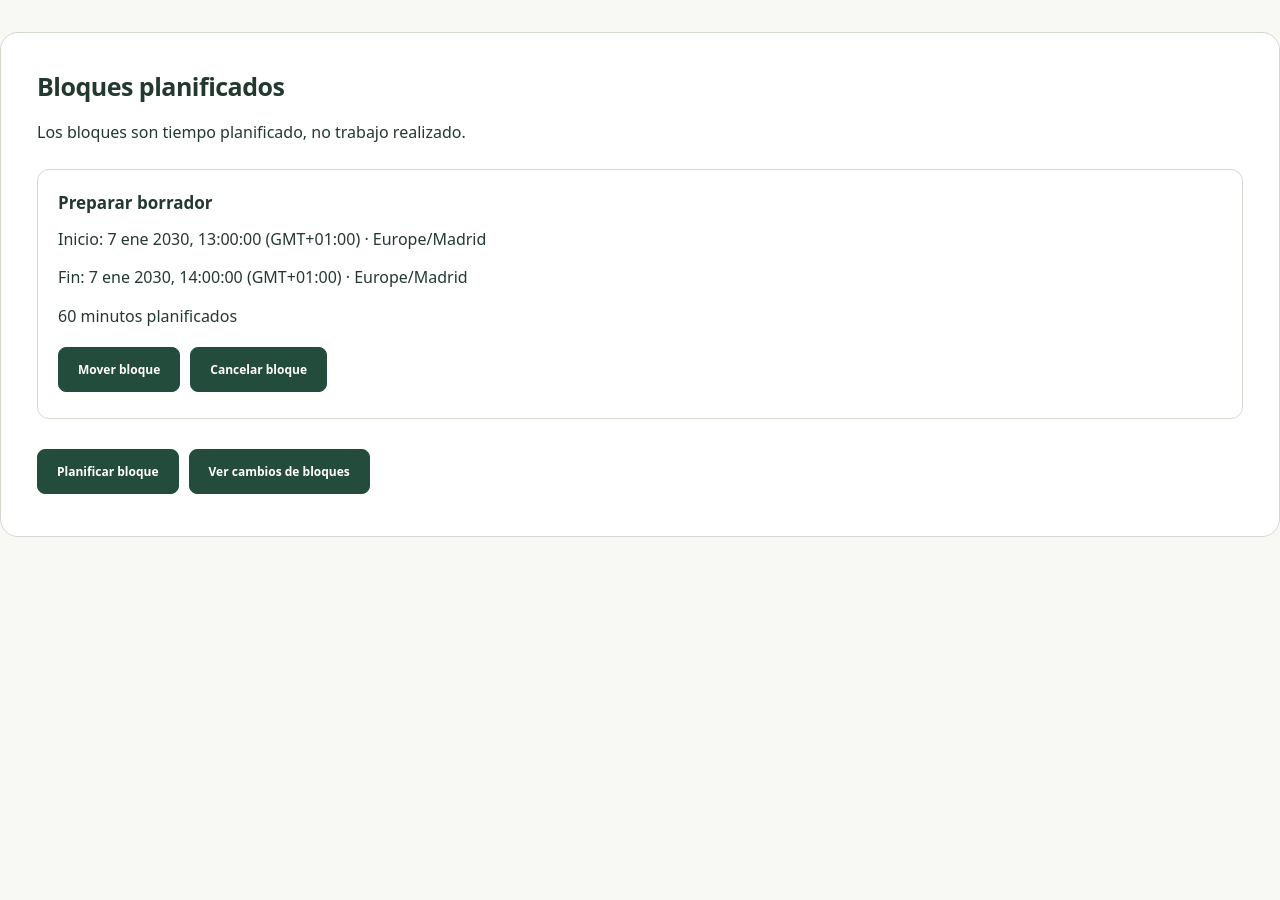
@s8 confirms the reviewed move with both revisions and explicit non-excess consent
The image size is (1280, 900).
Step 1. Click the button "Mover bloque" → click(119, 370), box [58,347,180,392]
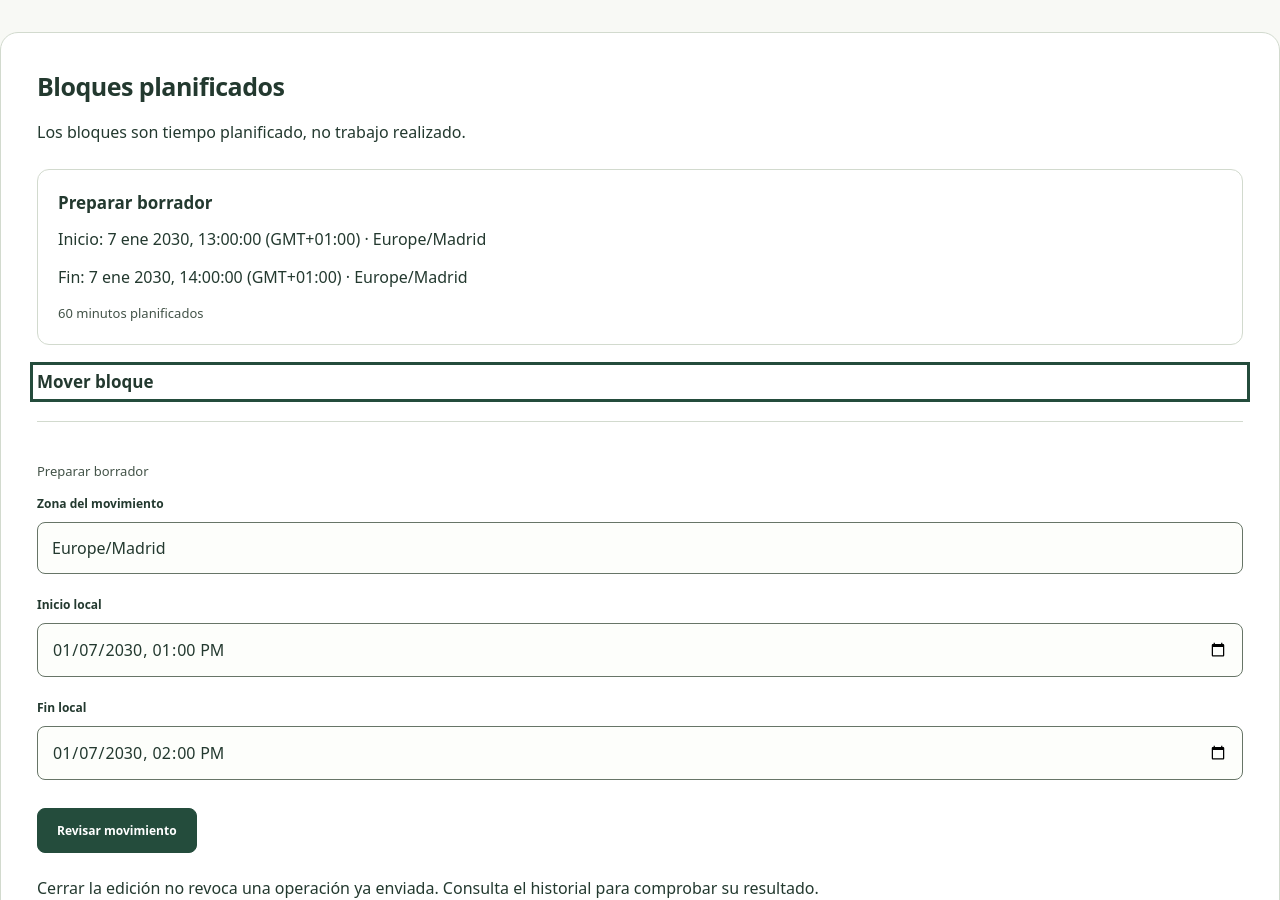
Step 2. Replace the text in the field labelled "Inicio local" with "2030-01-07T14:00" → (640, 650), box [37,623,1243,677]
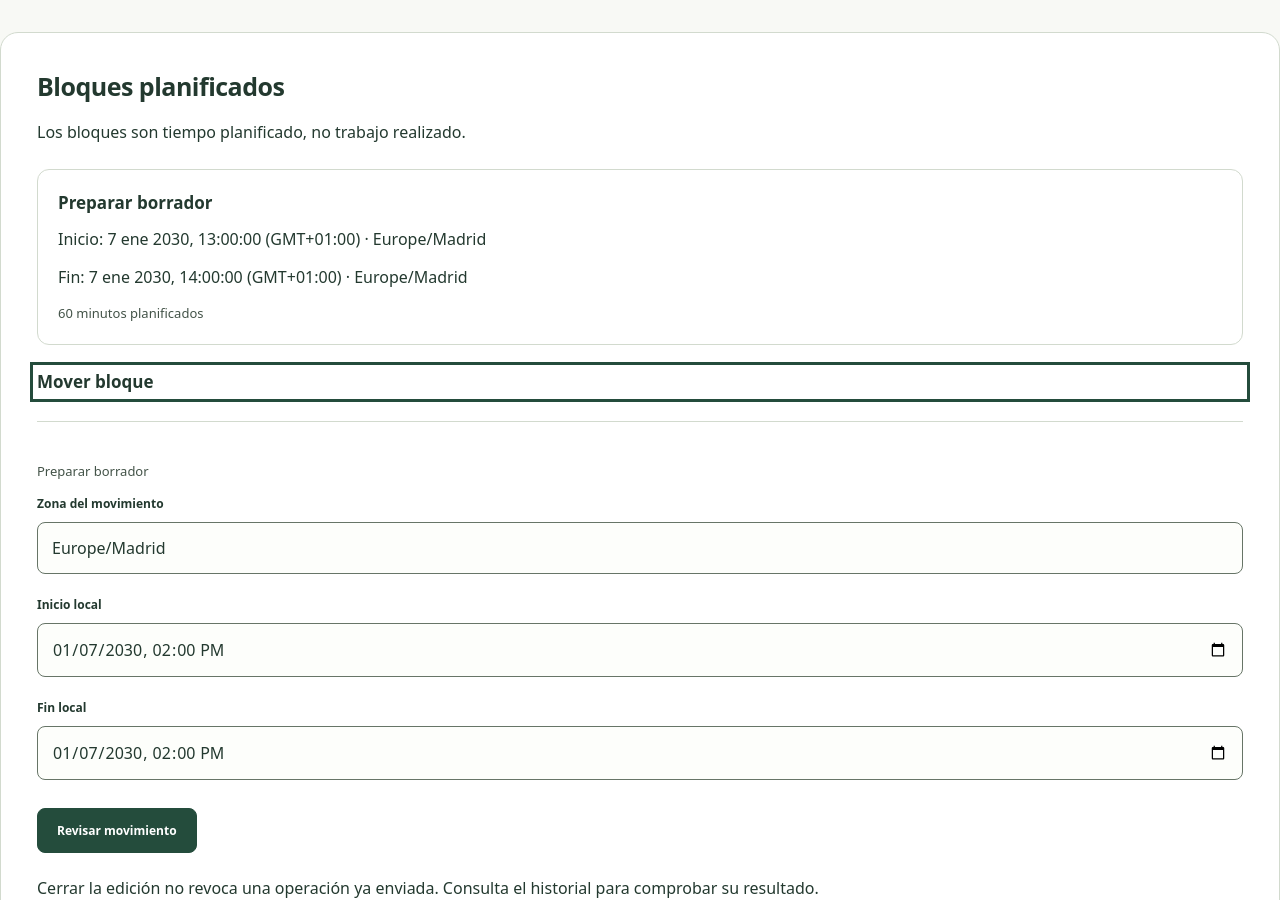
Step 3. Replace the text in the field labelled "Fin local" with "2030-01-07T15:00" → (640, 753), box [37,726,1243,780]
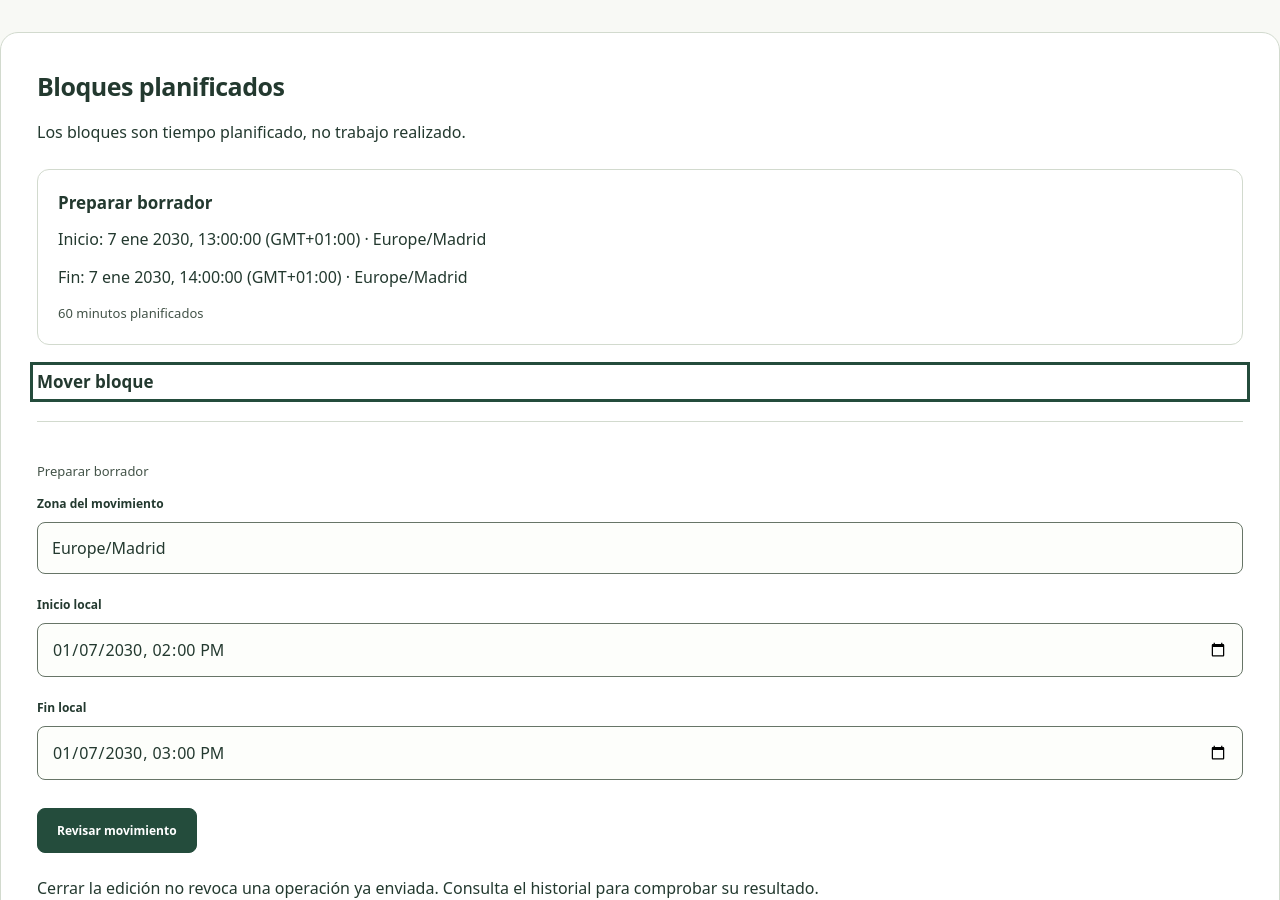
Step 4. Click the button "Revisar movimiento" → click(117, 830), box [37,808,197,853]
(page scrolled)
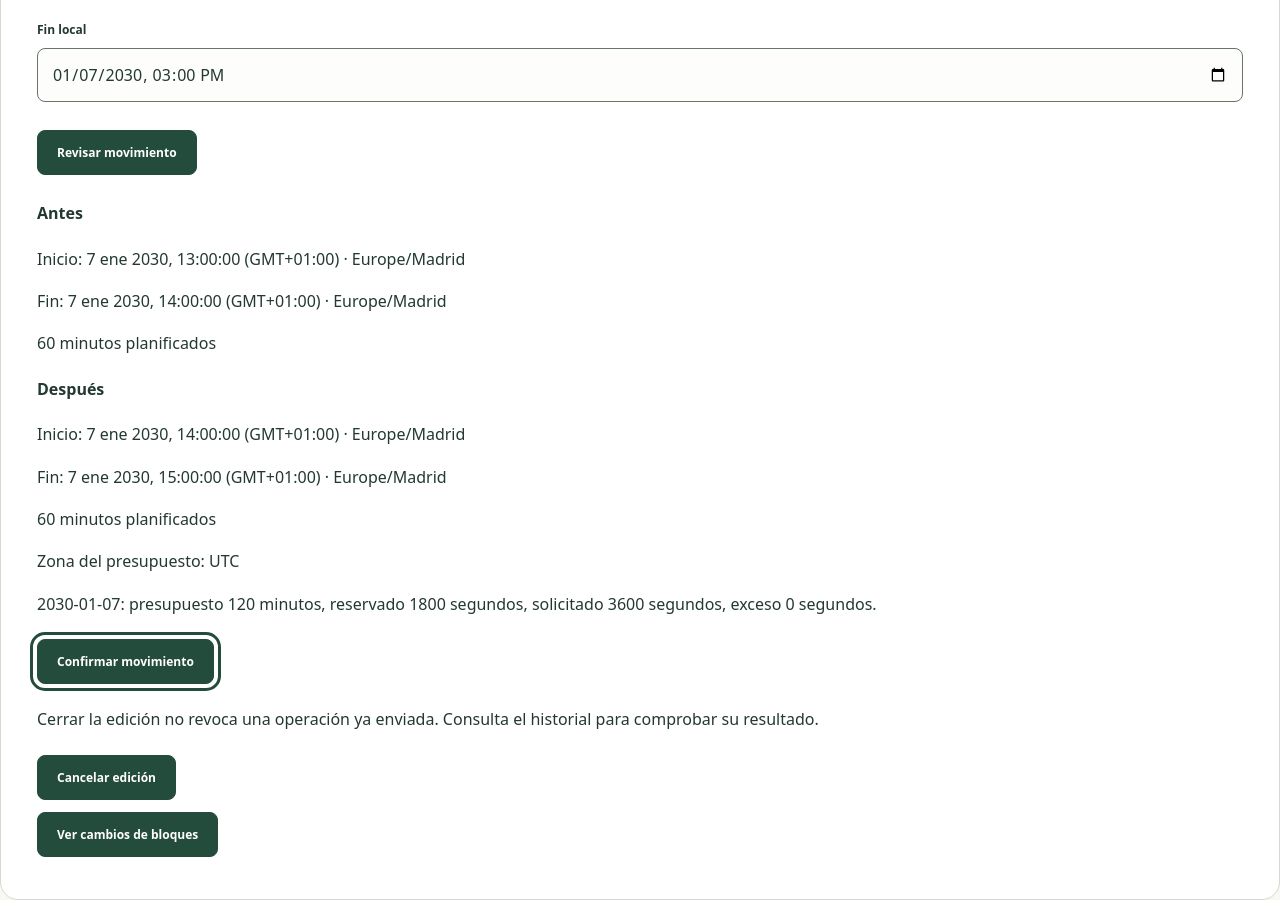
Step 5. Click the button "Confirmar movimiento" → click(125, 662), box [37,639,214,684]
(page scrolled)
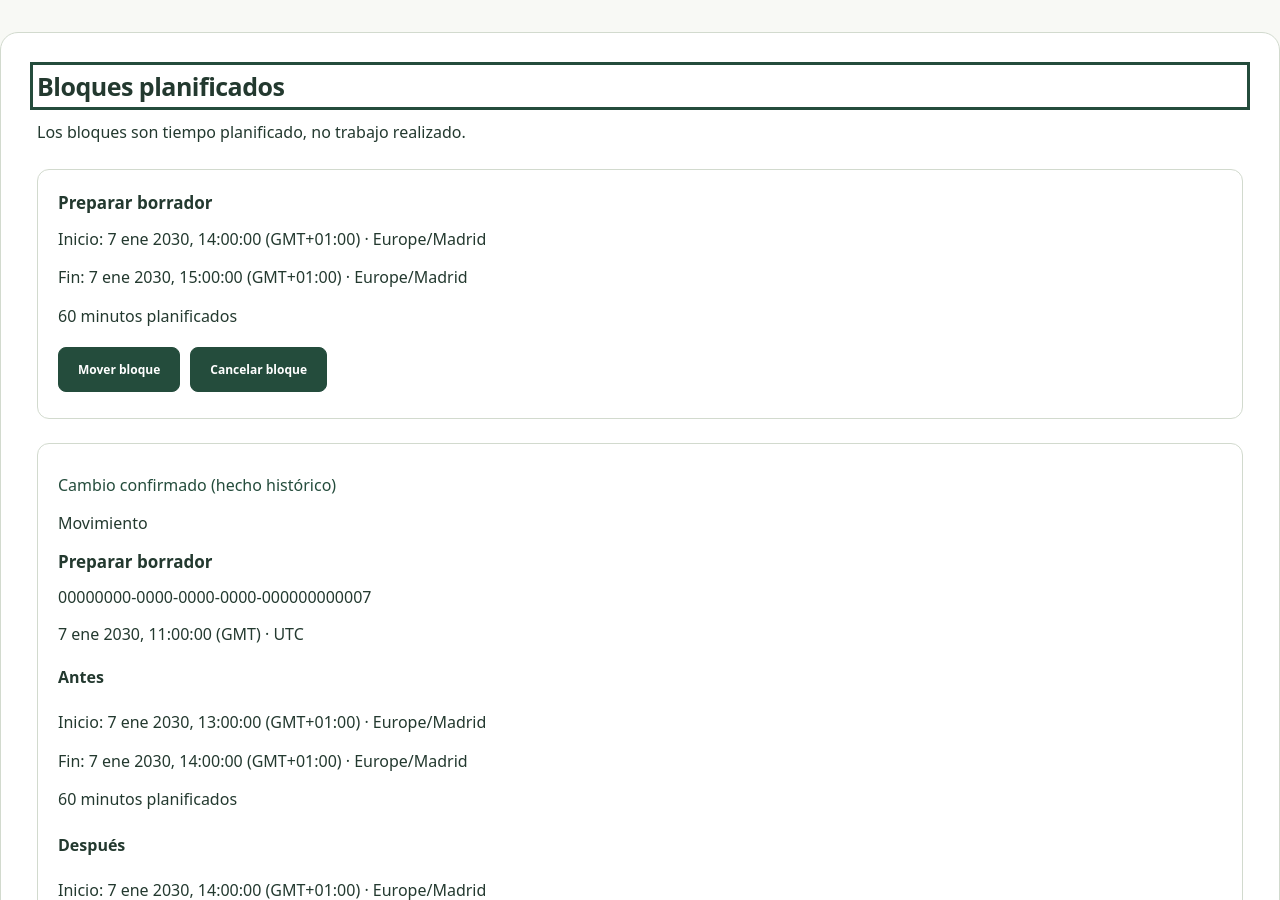
Now the text "Cambio confirmado (hecho histórico)" is shown, box [58,474,336,496]
